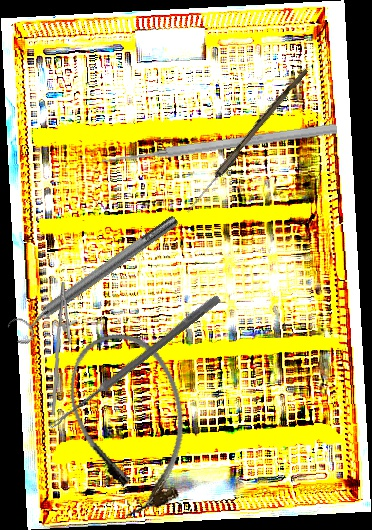Cannula: (54, 320, 208, 525)
Fixation Ring: (3, 207, 187, 349)
Needle Holder: (44, 281, 82, 415)
Pusher: (101, 120, 338, 169)
Surgical Spoon: (46, 293, 222, 433), (184, 65, 309, 216)
